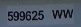2: (31, 10, 38, 20)
5: (38, 9, 44, 21), (7, 11, 13, 21)
6: (25, 11, 31, 21)
9: (19, 10, 26, 21), (13, 11, 19, 21)
w: (63, 8, 74, 19), (52, 9, 63, 19)
